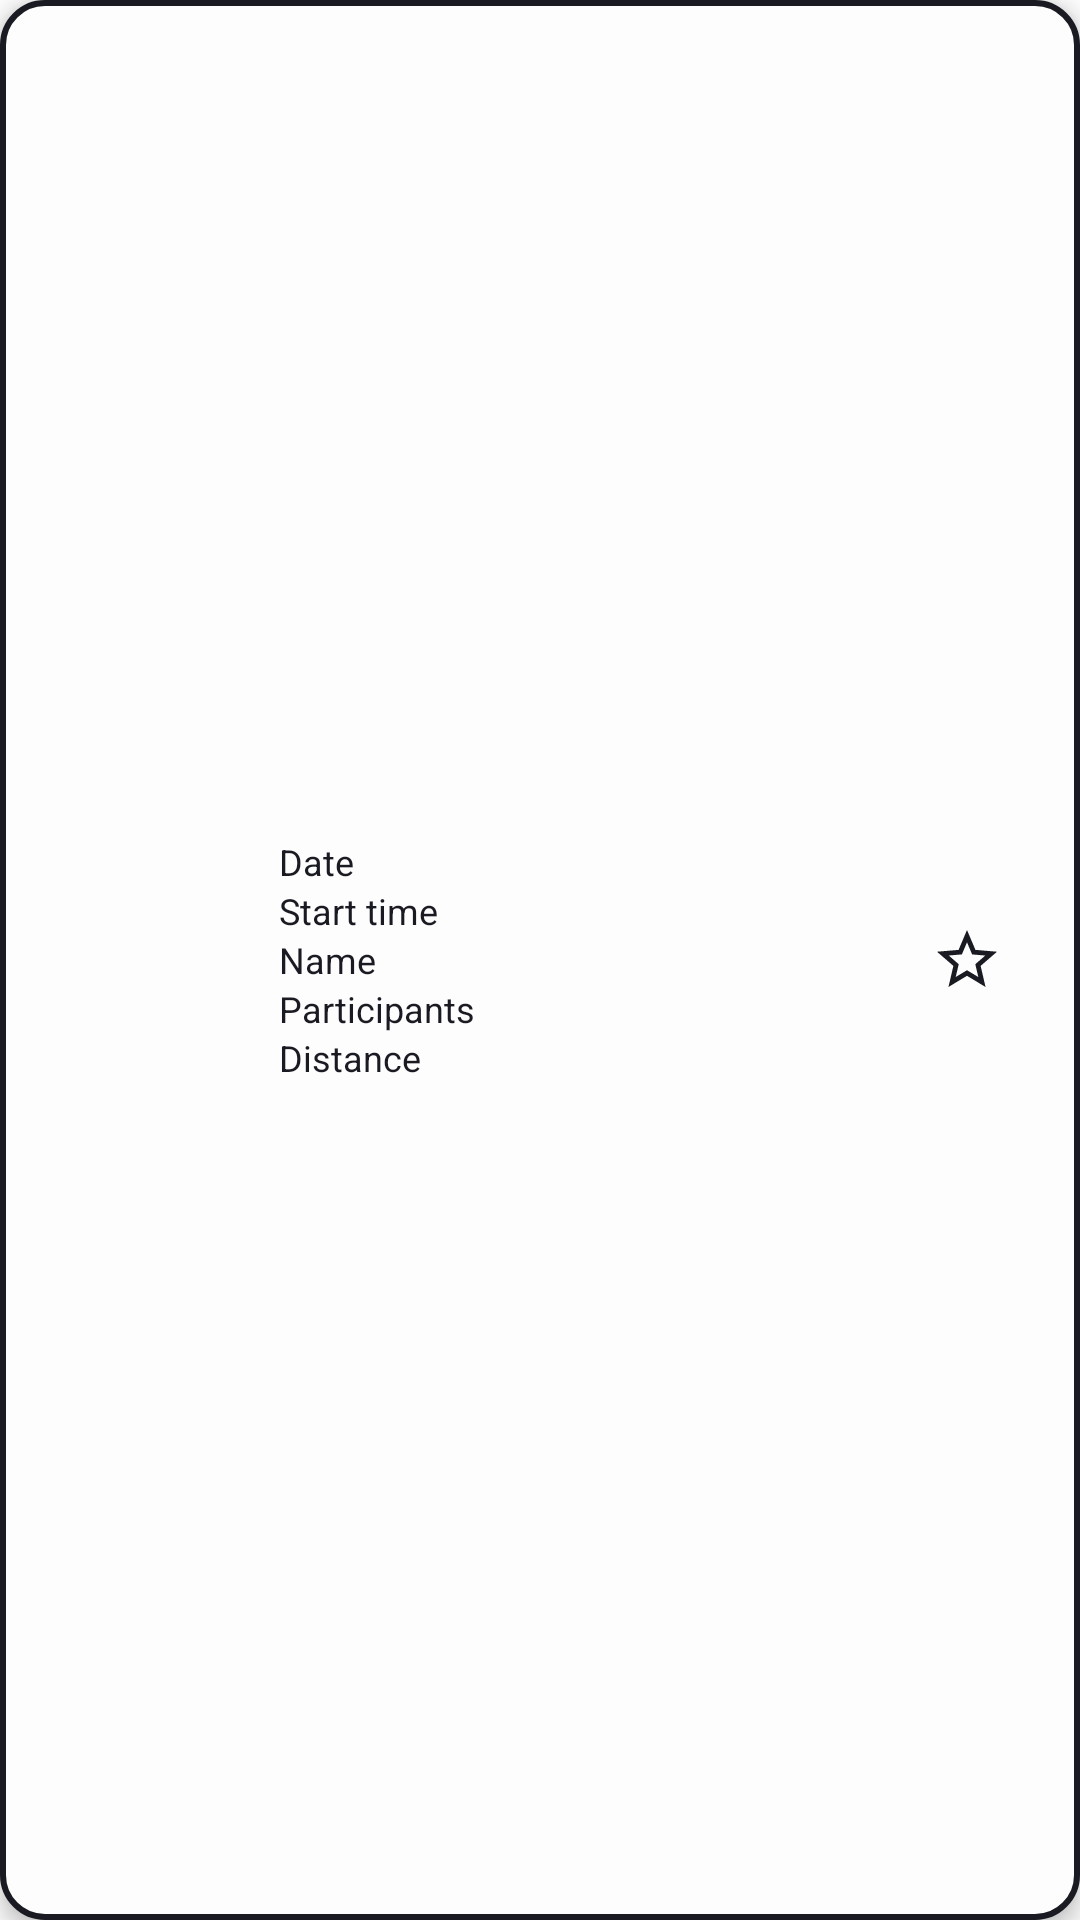

Where icons sit on this 1080px×1920px app screen, as (x1,y1,x2,y2):
favorite: (937,930,997,987)
